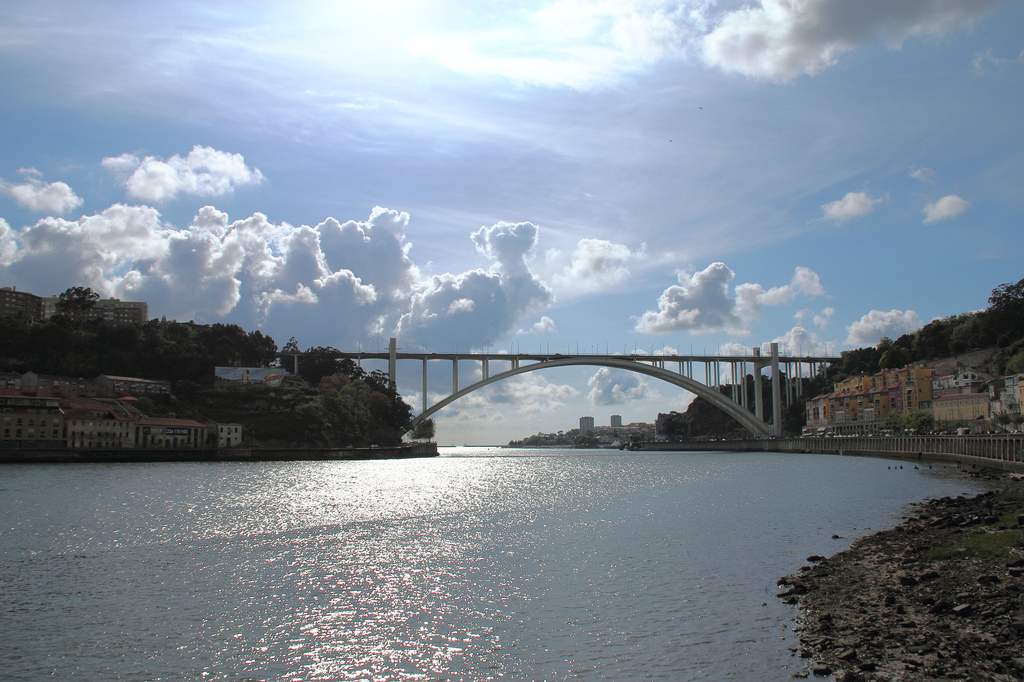arrabida: (334, 336, 840, 441)
